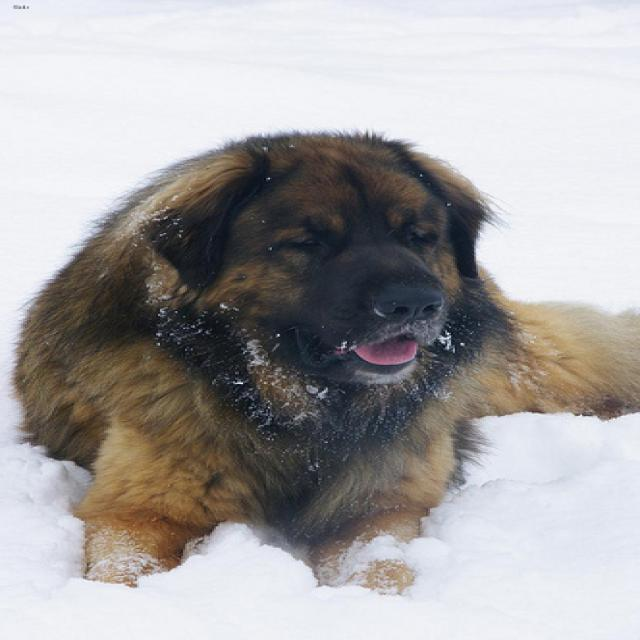dog-leonberger: (2, 119, 636, 604)
